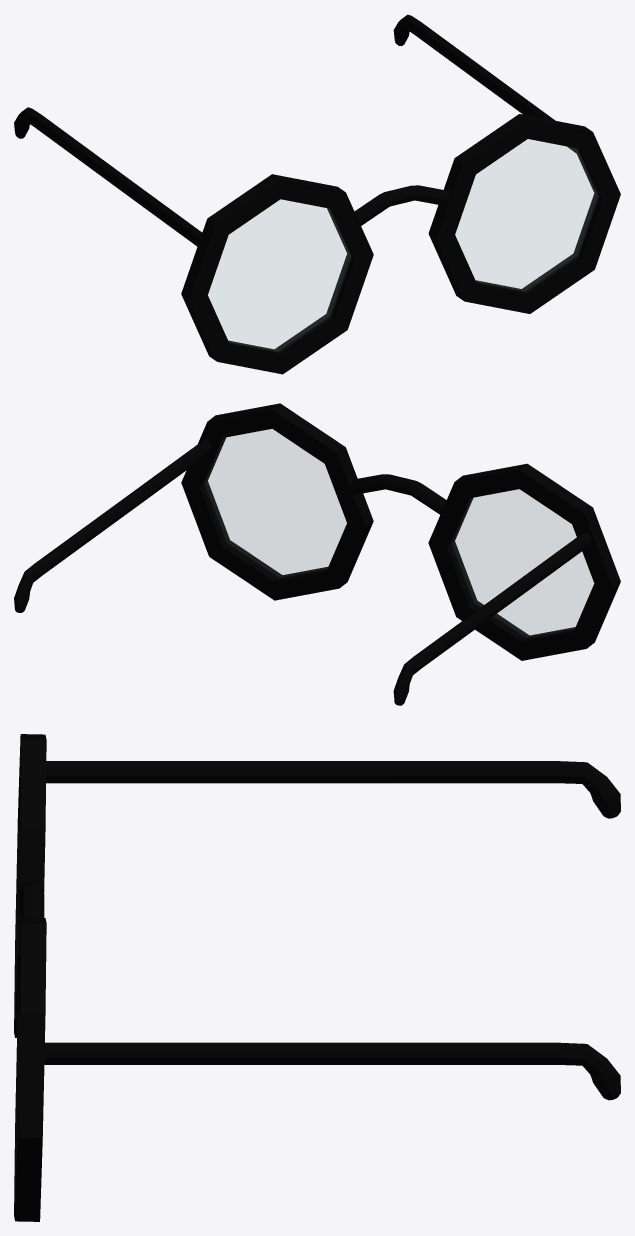
Rendered from Glasses.fbx.
The picture shows the model from 3 angles, top to bottom: view 1: azimuth 30°, elevation 25°; view 2: azimuth 150°, elevation 25°; view 3: azimuth 270°, elevation 25°; orthographic projection. The views are drawn at different scales.
Parts seen in each view (by area): view 1: pCylinder9; view 2: pCylinder9; view 3: pCylinder9.
Part boxes in pixels (<box>): pCylinder9: <box>14,14,620,374</box>; pCylinder9: <box>14,403,620,705</box>; pCylinder9: <box>14,734,620,1221</box>.
Bounding box in the file's own units: 0.0606 × 0.0259 × 0.0486.
